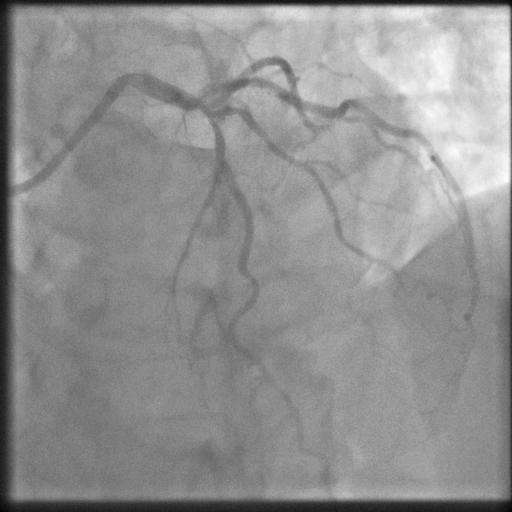Stenosis: (195, 101, 222, 137)
